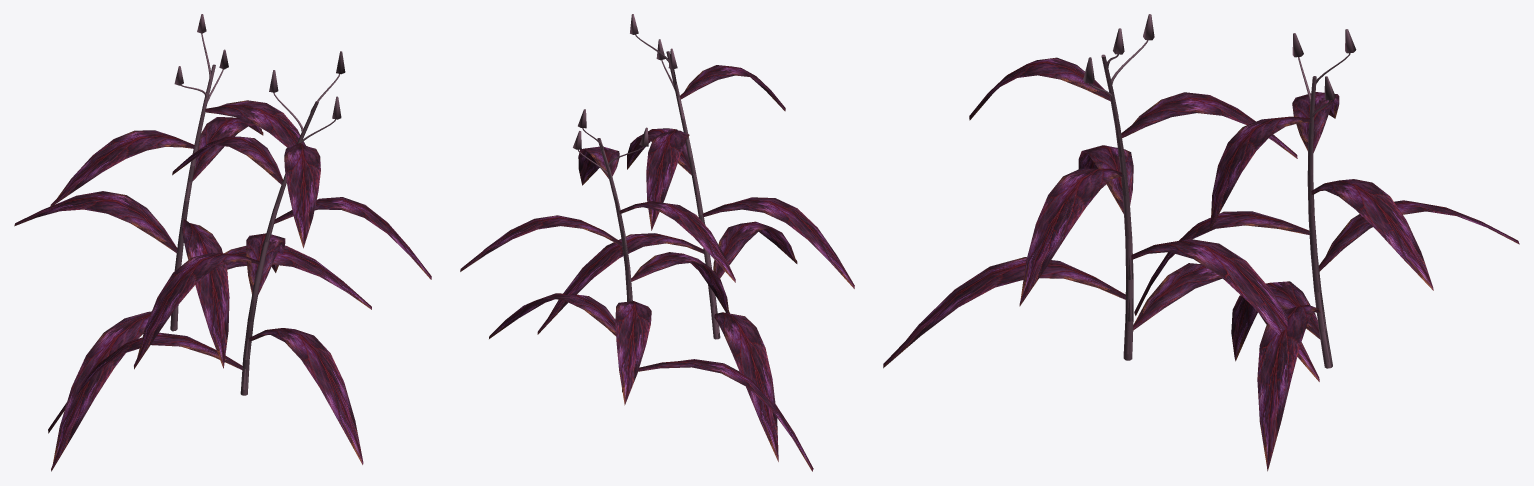
File: finegrass_06.glb
3 views of the same model, side by side, from view 1: azimuth 30°, elevation 25°; view 2: azimuth 150°, elevation 25°; view 3: azimuth 270°, elevation 25° (orthographic). The views are drawn at different scales.
Parts seen in each view (by area): view 1: export; view 2: export; view 3: export.
Part boxes in pixels (x1=…): export: x1=14, y1=14, x2=431, y2=471; export: x1=460, y1=14, x2=854, y2=471; export: x1=883, y1=14, x2=1519, y2=471.
Bounding box in the file's own units: 0.9239 × 1.05 × 1.28.
2 materials, 2 textured.
